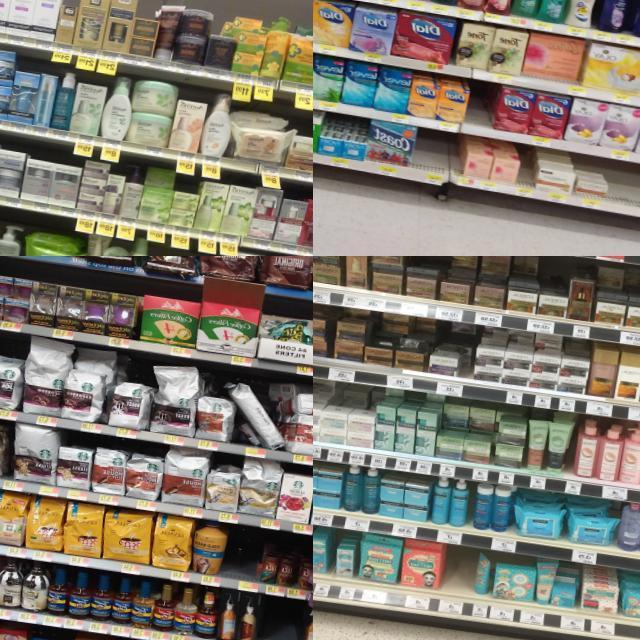empty: (438, 546, 478, 616), (222, 529, 262, 592), (412, 128, 452, 184), (605, 164, 640, 221), (466, 82, 494, 136), (252, 595, 281, 640), (275, 601, 304, 640), (516, 147, 534, 197)
